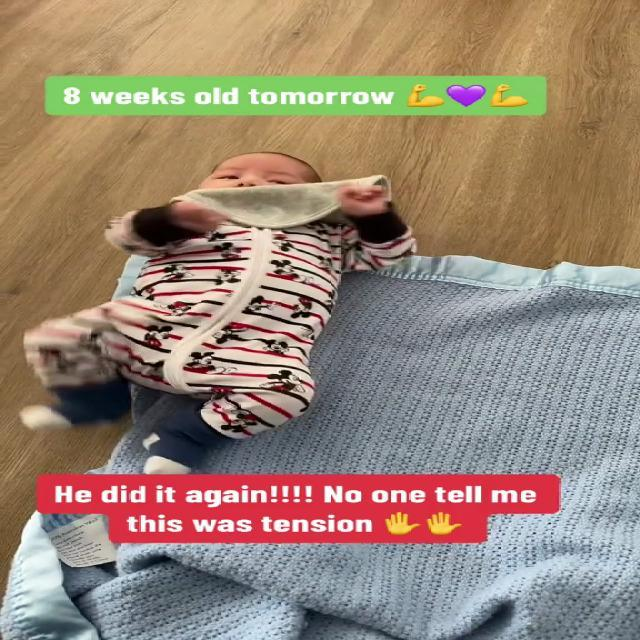baby: (2, 145, 442, 478)
